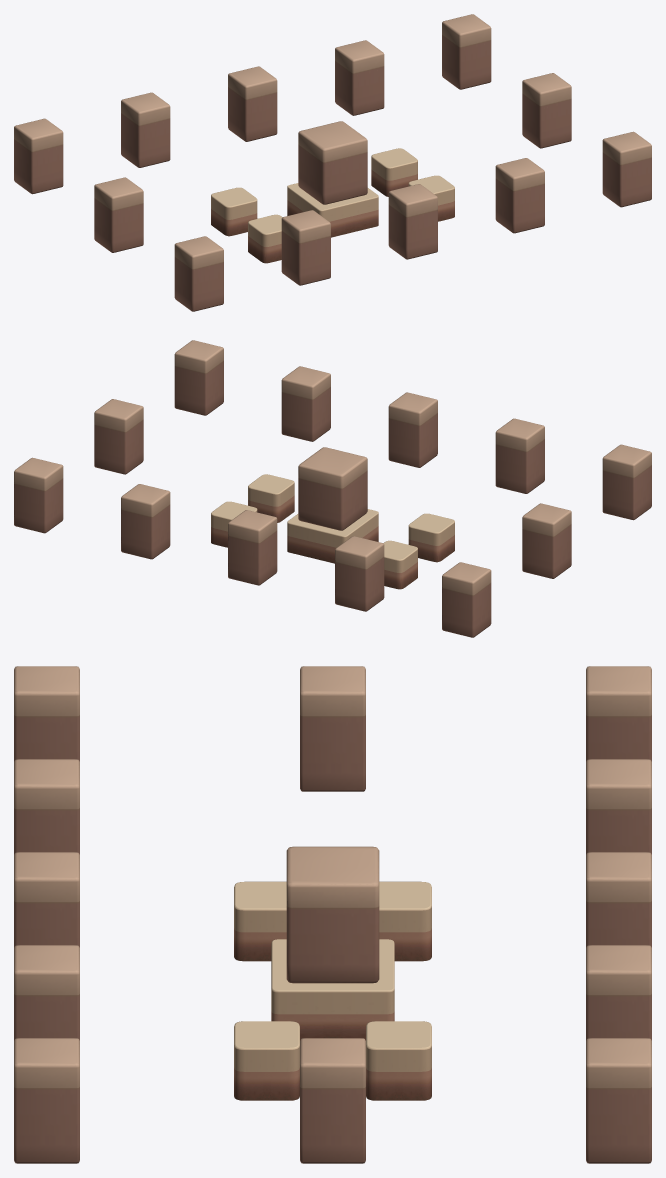
Rendered from Props.fbx.
The picture shows the model from 3 angles, top to bottom: view 1: azimuth 30°, elevation 25°; view 2: azimuth 150°, elevation 25°; view 3: azimuth 270°, elevation 25°; orthographic projection. The views are drawn at different scales.
Visible parts, largest first — view 1: Box03-2, Box03 (3), Box03 (7), Box03 (8), Box03 (10), Box03 (5), Box03 (12), Box03 (6), Box03 (9), Box03 (4), Box03 (11), Box03 (14) (+6 smaller); view 2: Box03-2, Box03 (3), Box03 (5), Box03 (8), Box03 (12), Box03 (7), Box03 (10), Box03 (4), Box03 (11), Box03 (6), Box03 (9), Box03 (14) (+6 smaller); view 3: Box03-2, Box03 (7), Box03 (12), Box03 (14), Box03 (16), Box02, Box03 (3), Box03 (4), Box03 (5), Box03 (6), Box03 (8), Box03 (9) (+6 smaller).
Boxes of the visible parts, bbox=[...] form: Box03-2: bbox=[298, 121, 367, 204]; Box03 (3): bbox=[388, 184, 437, 259]; Box03 (7): bbox=[602, 131, 651, 207]; Box03 (8): bbox=[228, 66, 277, 141]; Box03 (10): bbox=[14, 118, 63, 194]; Box03 (5): bbox=[174, 236, 223, 311]; Box03 (12): bbox=[442, 14, 491, 89]; Box03 (6): bbox=[495, 158, 544, 233]; Box03 (9): bbox=[121, 92, 170, 167]; Box03 (4): bbox=[281, 210, 330, 285]; Box03 (11): bbox=[335, 40, 384, 115]; Box03 (14): bbox=[94, 177, 143, 252]; Box03-2: bbox=[298, 447, 367, 530]; Box03 (3): bbox=[388, 392, 437, 467]; Box03 (5): bbox=[602, 444, 651, 520]; Box03 (8): bbox=[228, 510, 277, 585]; Box03 (12): bbox=[14, 457, 63, 533]; Box03 (7): bbox=[174, 340, 223, 415]; Box03 (10): bbox=[442, 562, 491, 637]; Box03 (4): bbox=[495, 418, 544, 493]; Box03 (11): bbox=[121, 484, 170, 559]; Box03 (6): bbox=[281, 366, 330, 441]; Box03 (9): bbox=[335, 536, 384, 611]; Box03 (14): bbox=[522, 503, 571, 578]; Box03-2: bbox=[286, 846, 379, 983]; Box03 (7): bbox=[14, 1038, 79, 1163]; Box03 (12): bbox=[586, 1038, 651, 1163]; Box03 (14): bbox=[300, 666, 365, 791]; Box03 (16): bbox=[300, 1038, 365, 1163]; Box02: bbox=[271, 939, 394, 1040]; Box03 (3): bbox=[14, 852, 79, 947]; Box03 (4): bbox=[14, 759, 79, 854]; Box03 (5): bbox=[14, 666, 79, 761]; Box03 (6): bbox=[14, 945, 79, 1040]; Box03 (8): bbox=[586, 852, 651, 947]; Box03 (9): bbox=[586, 759, 651, 854].
Bounding box in the file's own units: 43 × 7.62 × 29.
